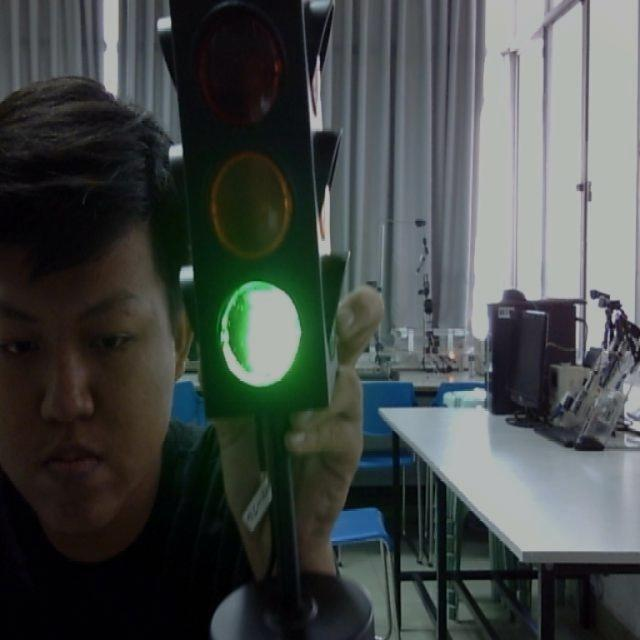Green: (170, 4, 348, 422)
